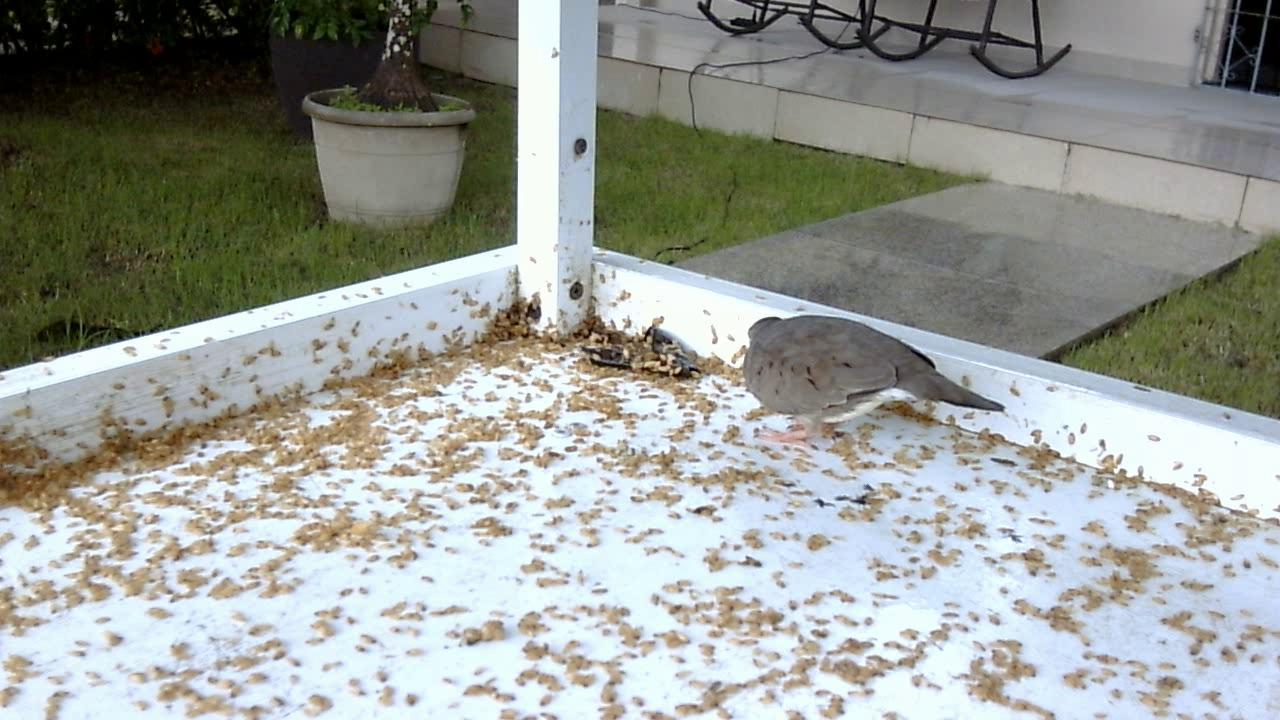rolinha: (723, 299, 1015, 455)
